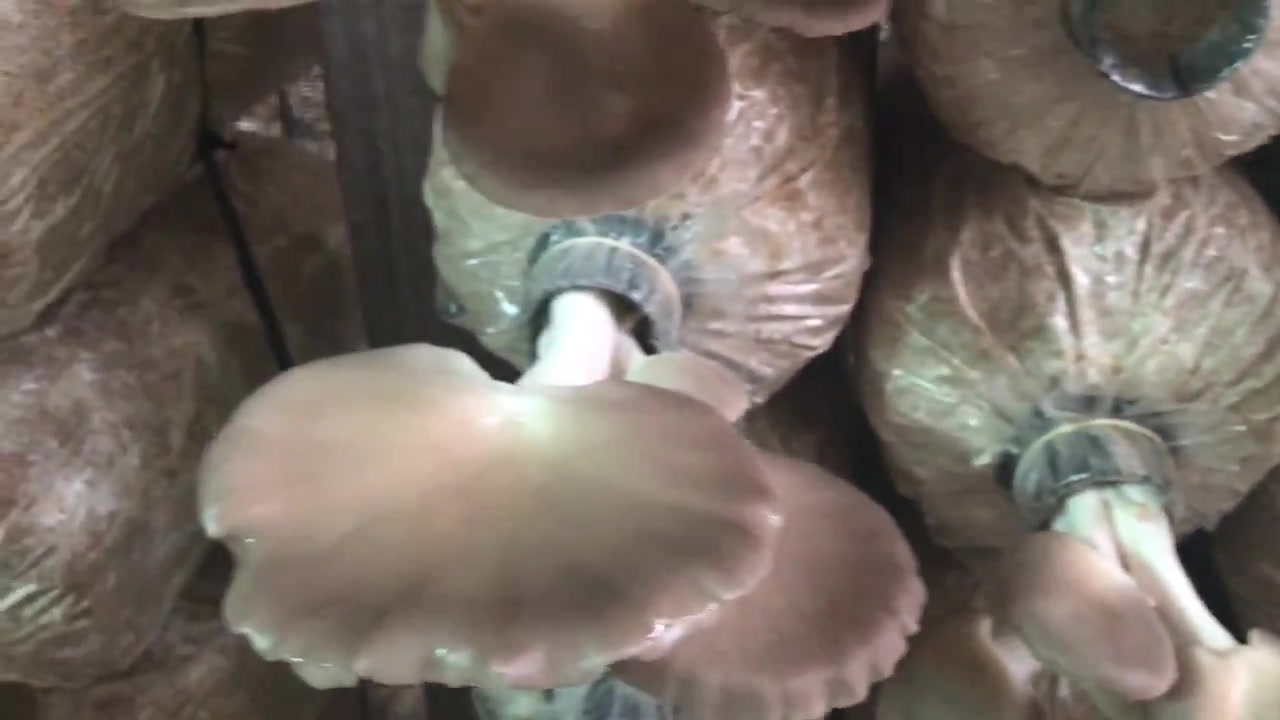nam: (199, 235, 782, 700), (878, 416, 1280, 720), (606, 453, 924, 720), (442, 1, 734, 221)
